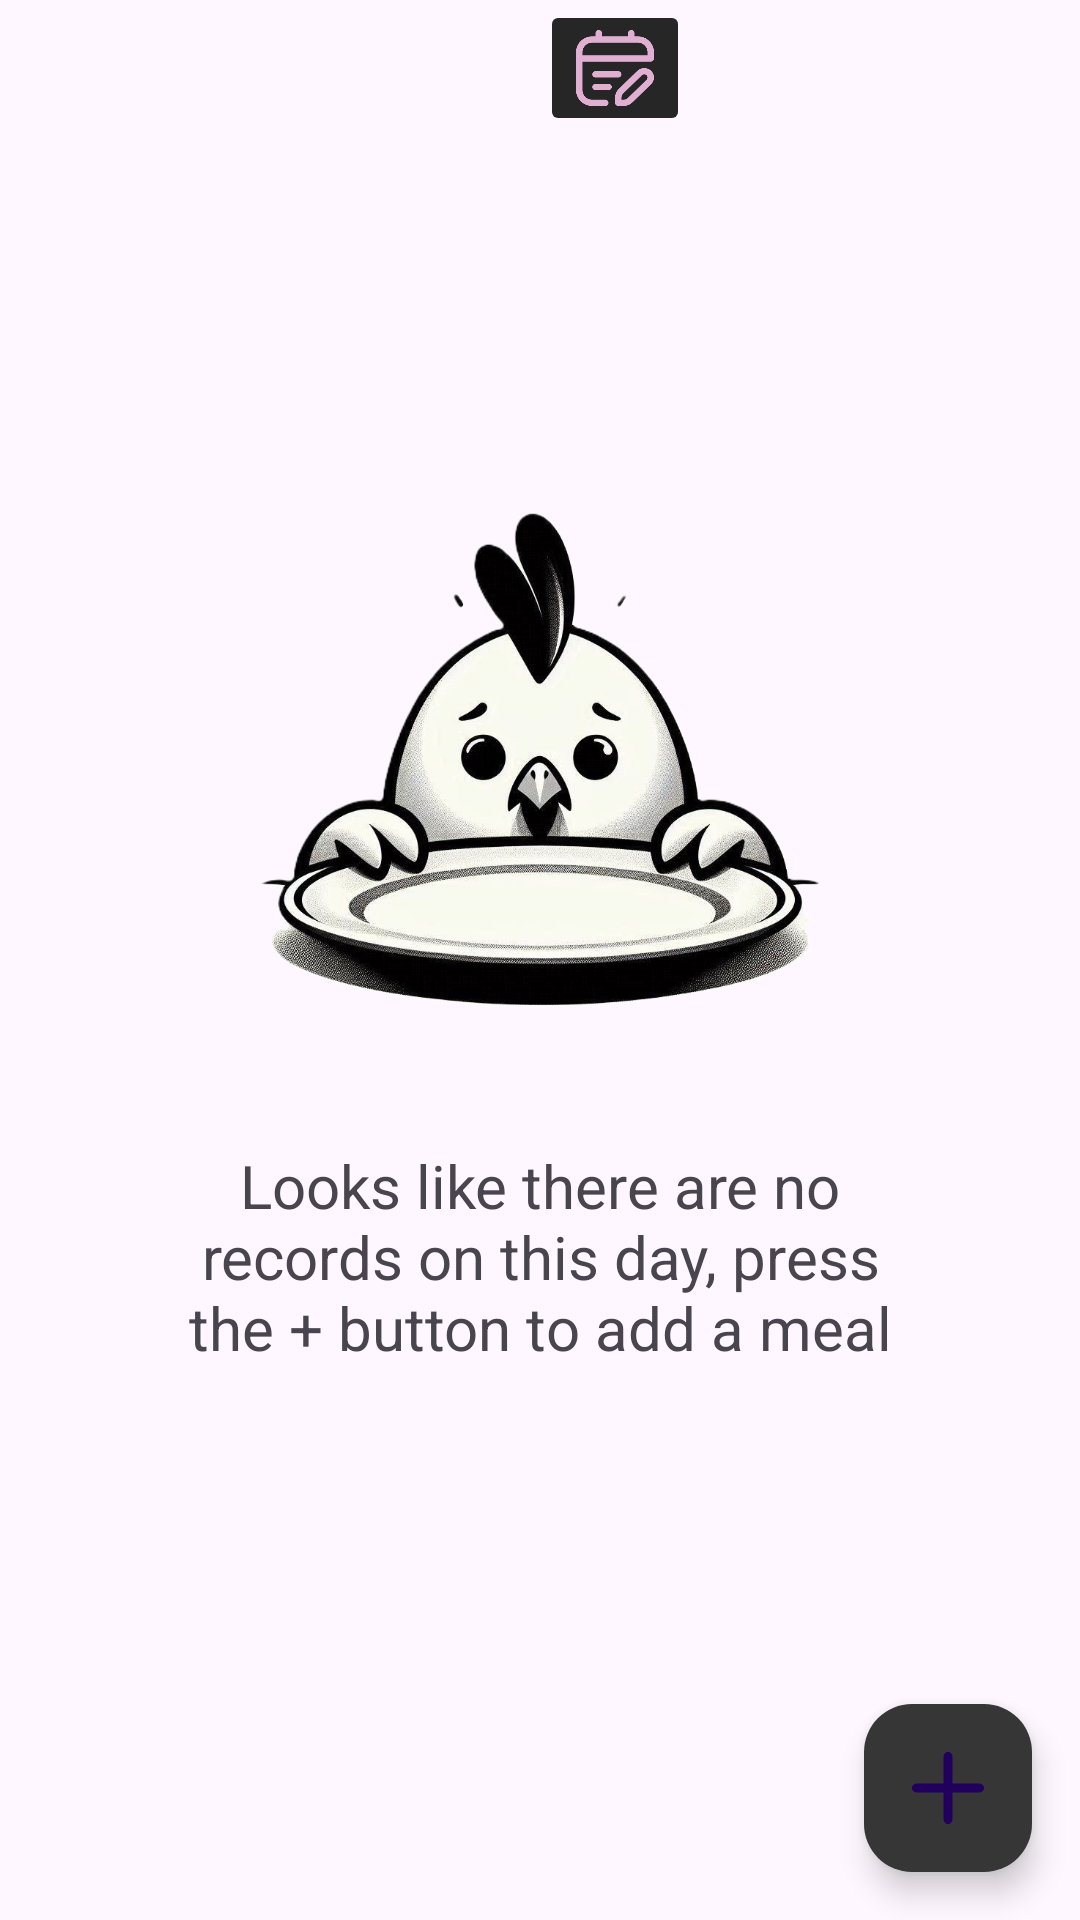

Named icons in this screenshot (1080×1920) and their bounding boxes, [left=x1, top=y1, right=x2, bottom=y2]:
calendar lines pen: [left=552, top=18, right=678, bottom=118]
plus: [left=864, top=1704, right=1032, bottom=1872]
